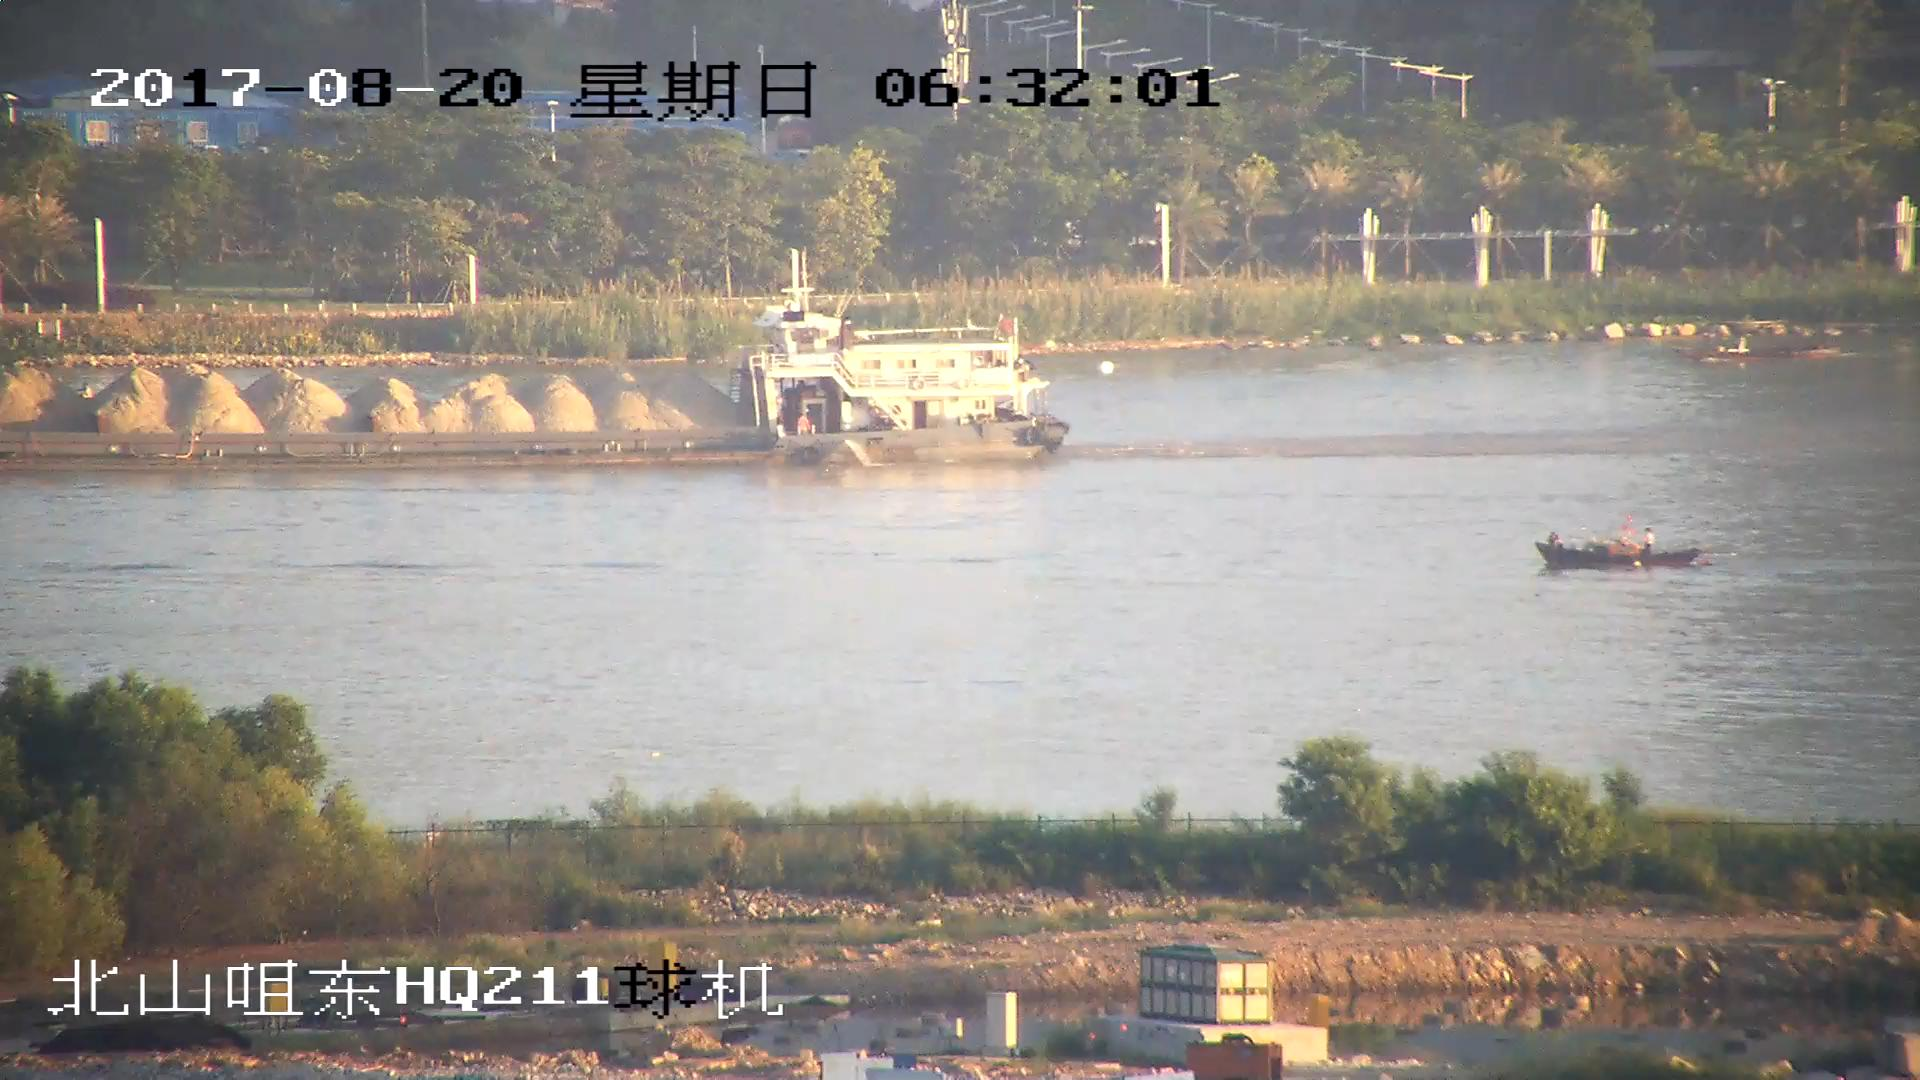fishing boat: (1532, 515, 1711, 575)
ore carrier: (1, 254, 1069, 465)
